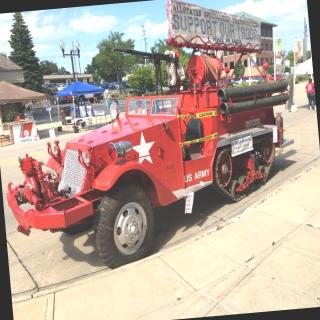Fire_truck: (6, 52, 294, 268)
